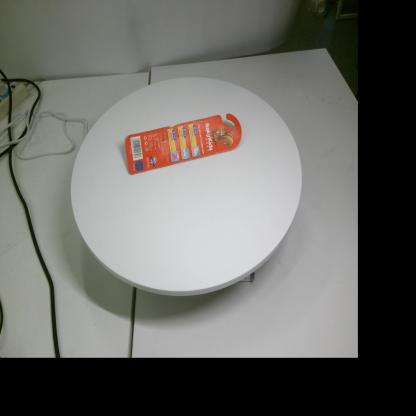Personal Hygiene: (124, 113, 242, 175)
